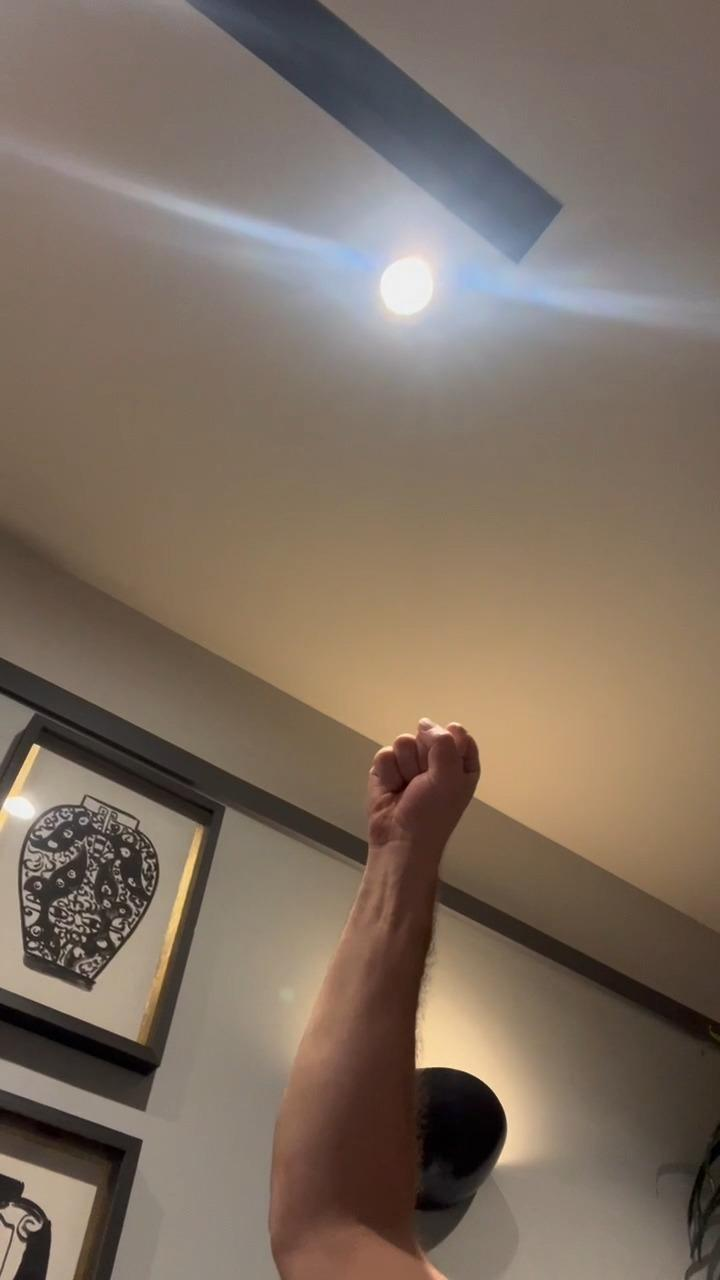Rock: (362, 718, 485, 844)
